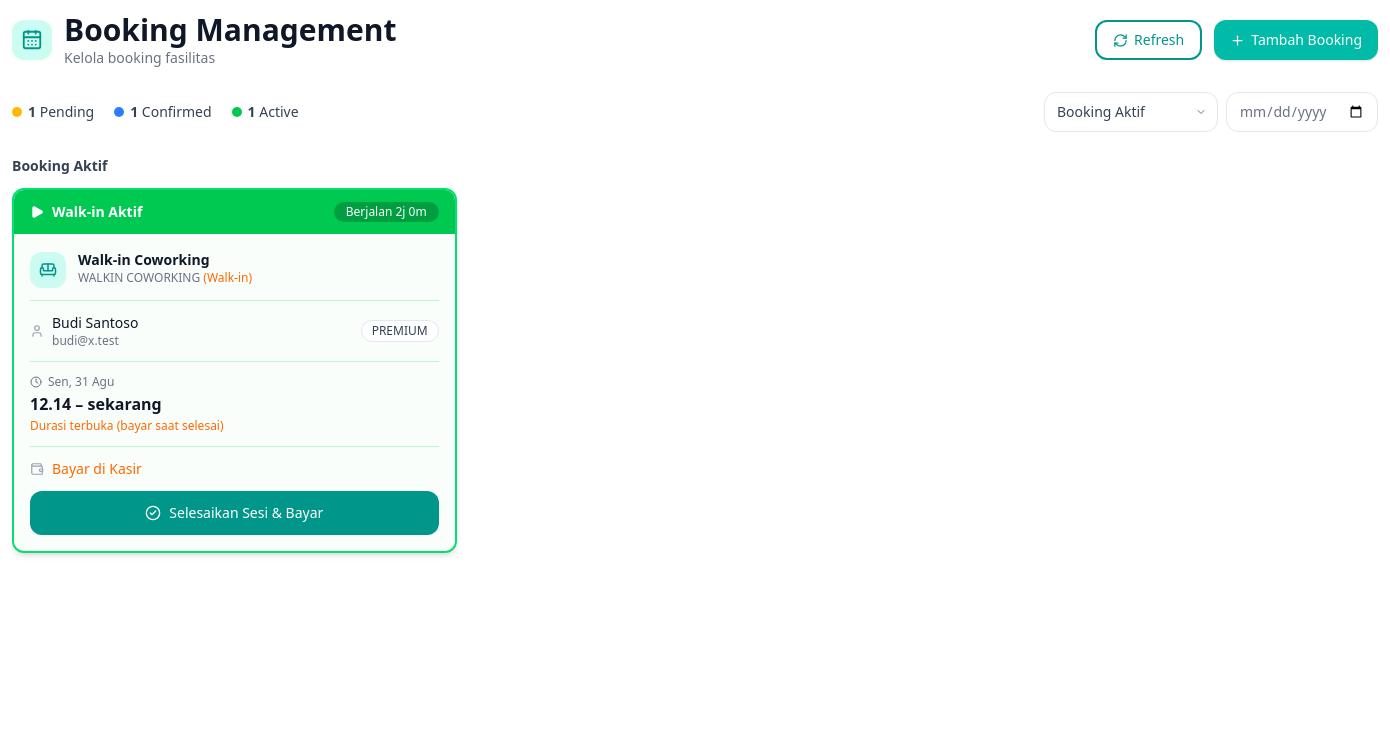
Test: BookingsClient (AC-841) › history table renders COMPLETED and CONFIRMED rows under the 'all' filter
Select "Semua Booking" in the dropdown showing "Booking Aktif". click: (1131, 112)
box: top-left (1044, 92), bottom-right (1218, 132)
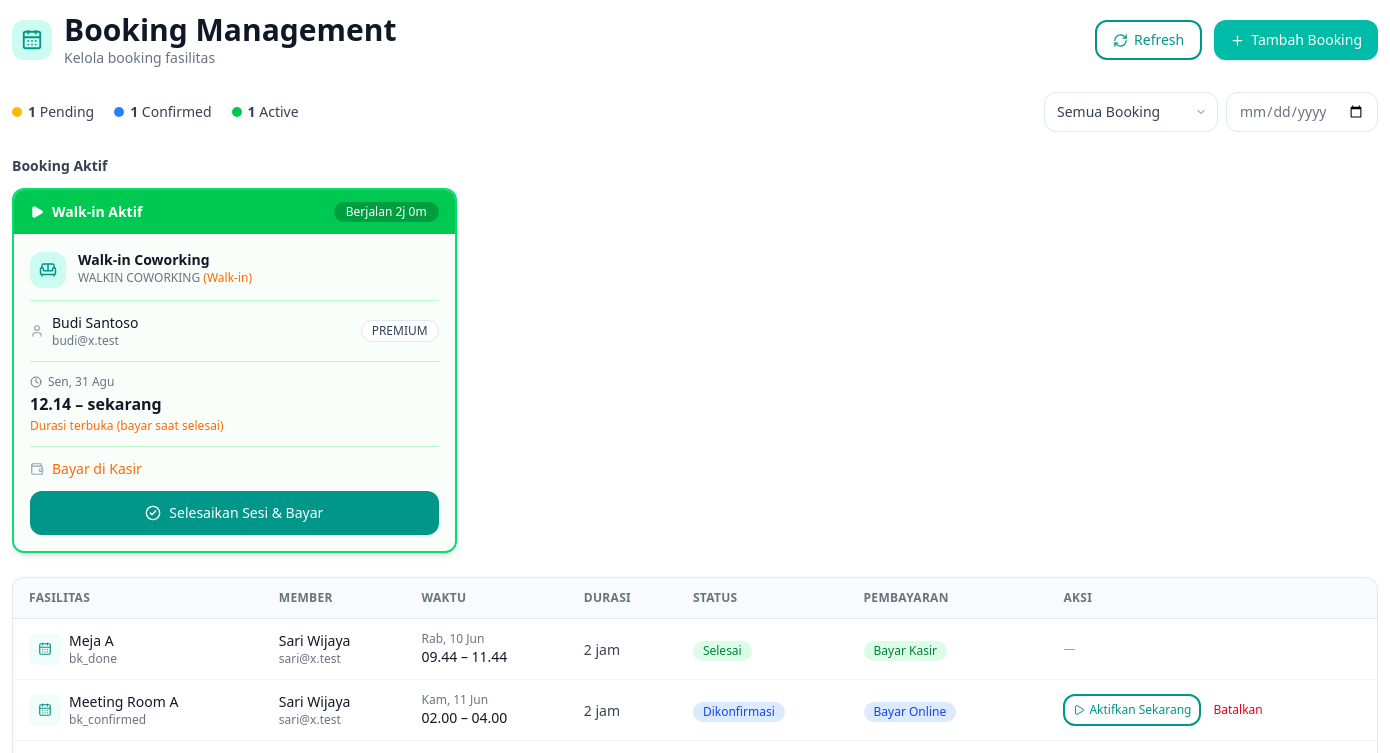
Expected: the text "Meja A" is shown, top-left (69, 631), bottom-right (117, 651)
Expected: the text "Meeting Room A" is shown, top-left (69, 692), bottom-right (178, 712)
